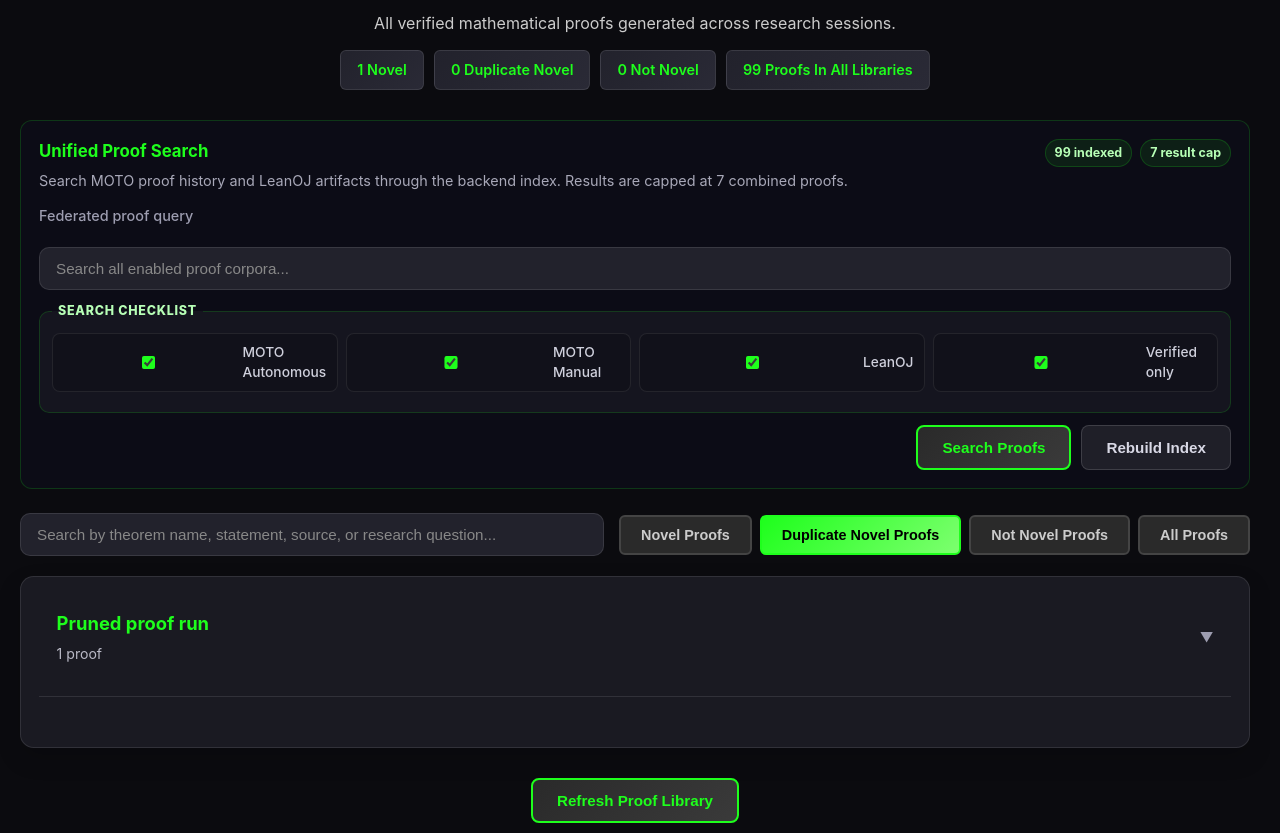
Test: presents historical prune state as read-only originating-run metadata
Click the button "Pruned proof run 1 proof ▼": [133, 623] box [39,595,1231,680]
(page scrolled)
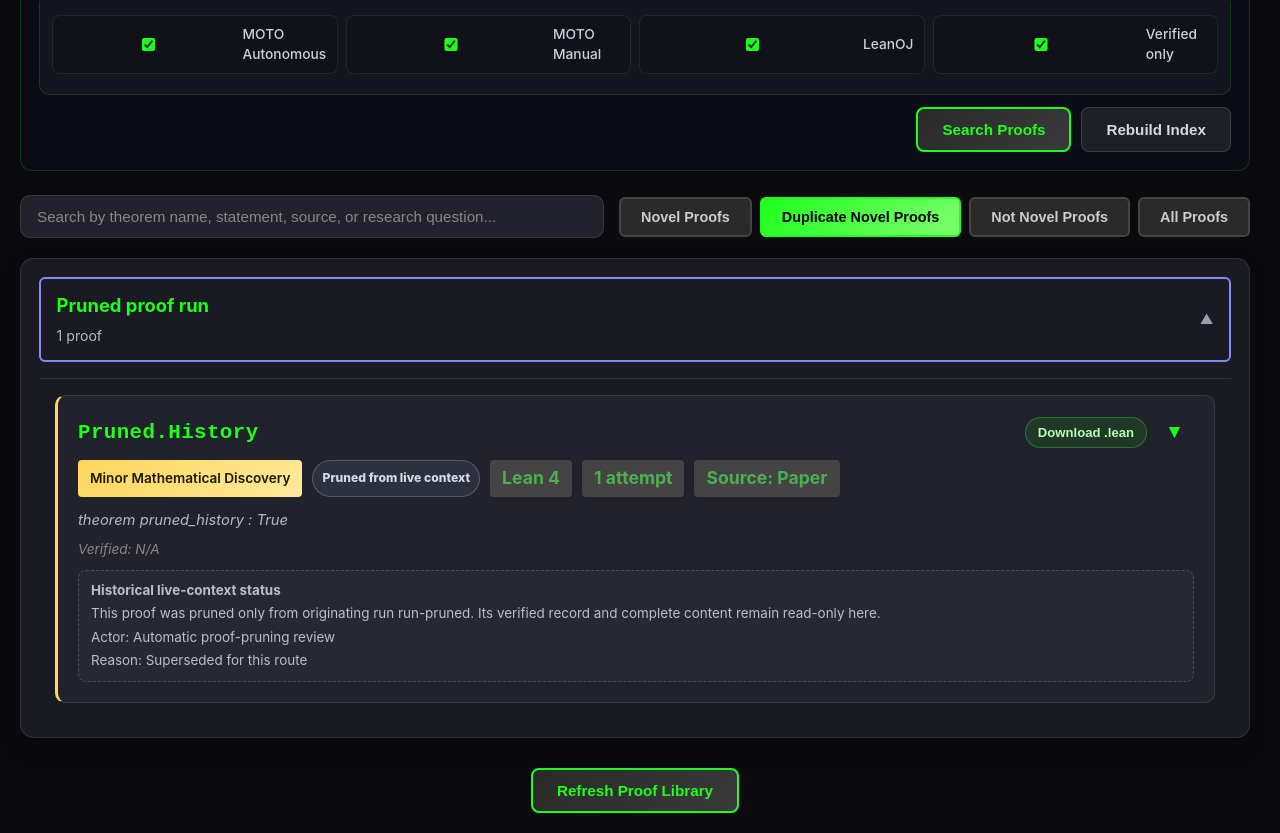
Expected: the text "Pruned from live context" is shown, [312,460,480,497]
Expected: the text "pruned only from originating run run-pruned" is shown, [91,605,881,621]
Expected: the text "Actor: Automatic proof-pruning review" is shown, [91,629,335,645]
